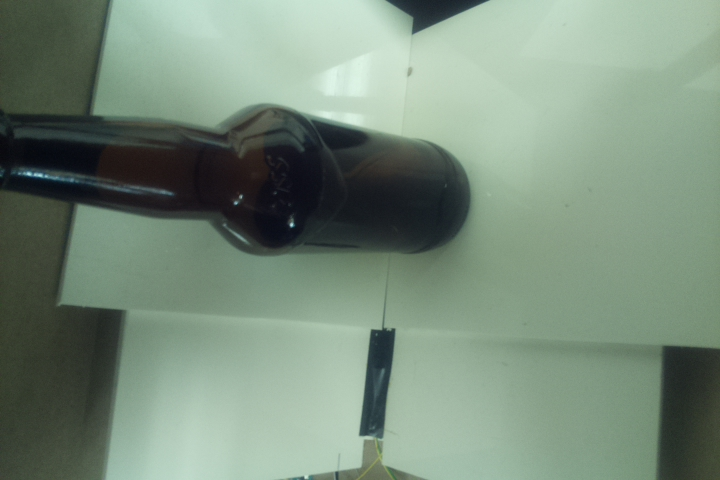makju: (1, 99, 472, 257)
